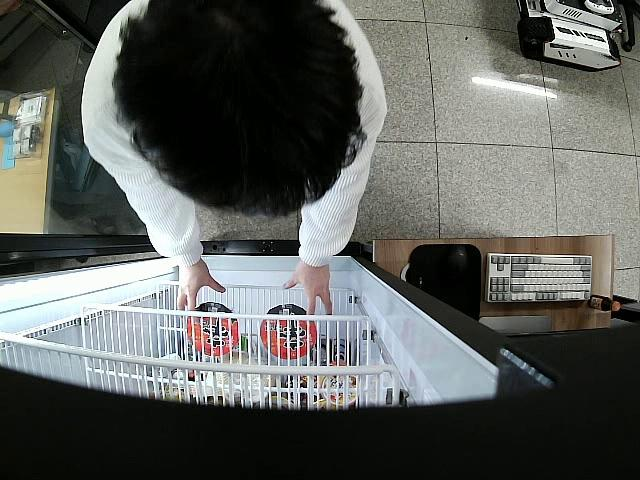00_hand: (281, 264, 335, 314), (175, 268, 226, 320)
01_shinRamen_L: (260, 305, 318, 360), (186, 301, 240, 354)
